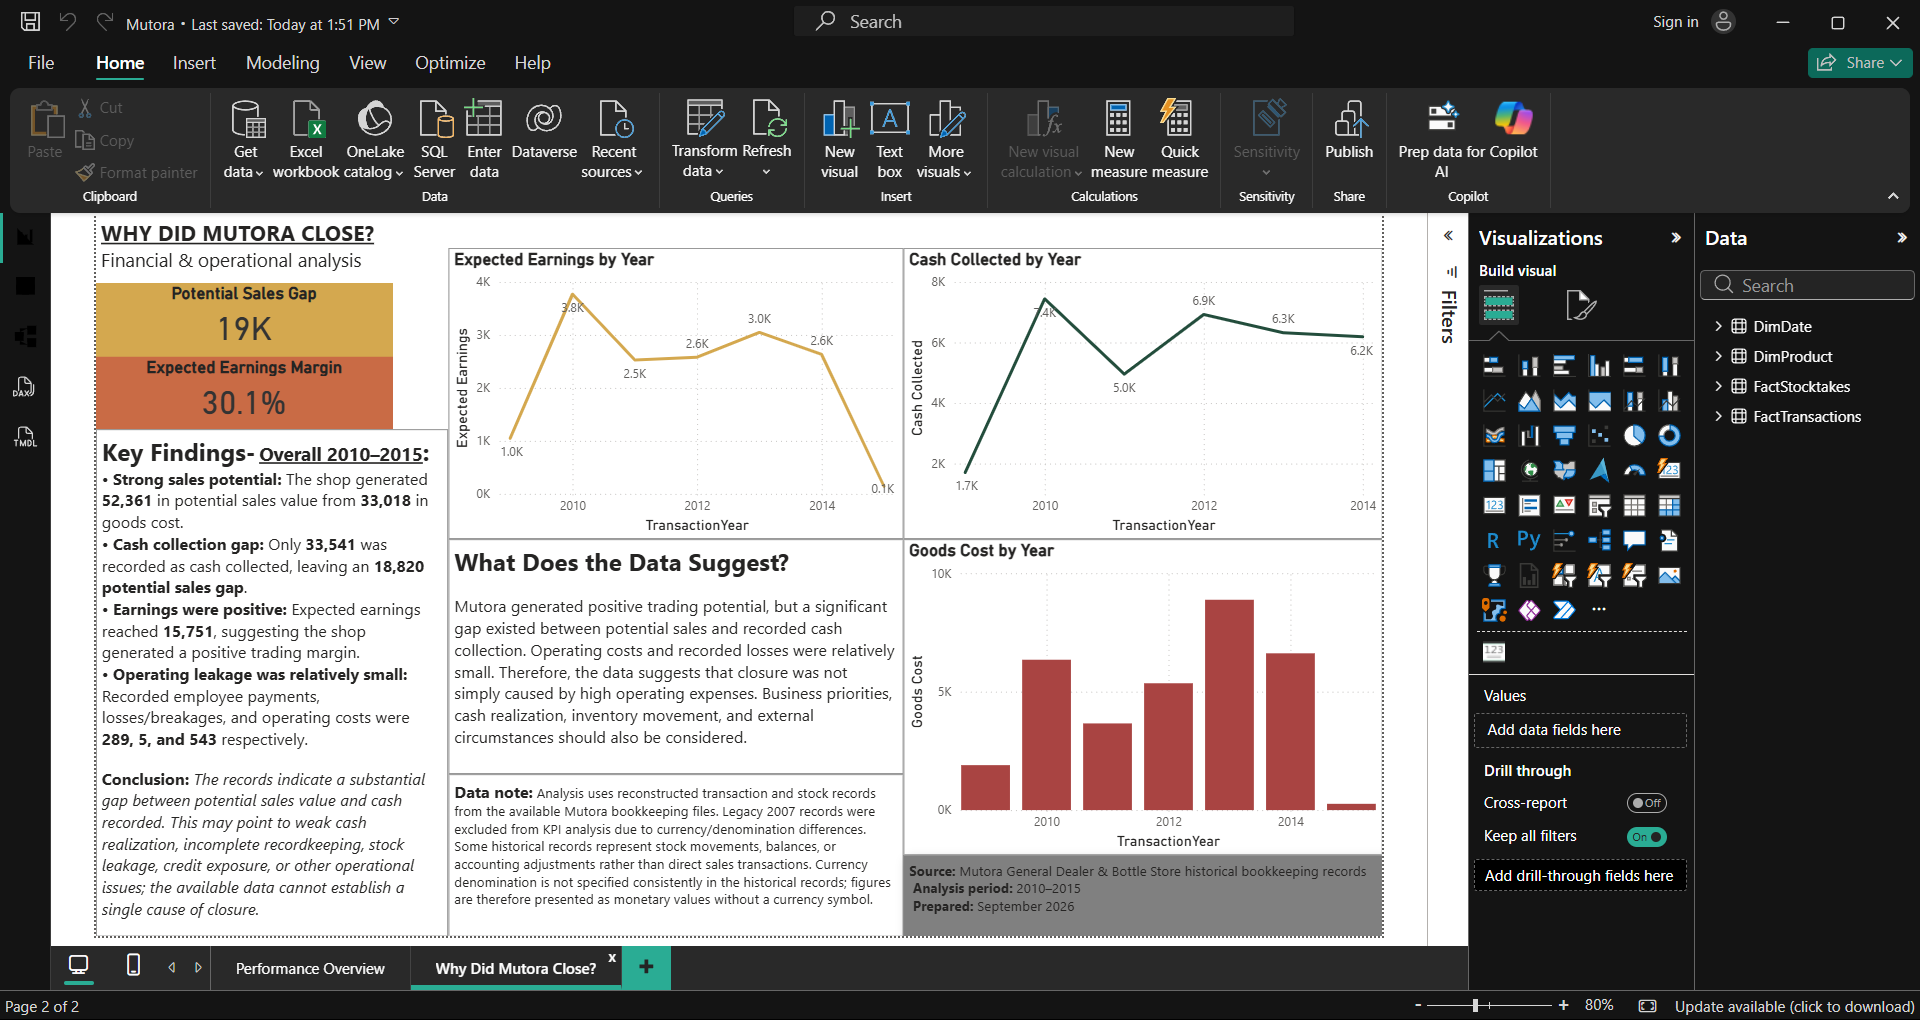

What the dashboard file says about the page in this screenshot:
{"tool":"powerbi","page":{"name":"Why Did Mutora Close?","canvas":[1280,720],"ordinal":1},"visuals":[{"type":"textbox","box":[0,0,294.8,69.7],"z":0},{"type":"advanceCardE03760C5AB684758B56AA29F9E6C257B","title":"Potential Sales Gap","fields":{"mainMeasure":["FactTransactions.Sales Gap"]},"box":[0,69.7,294.8,73.4],"z":1000},{"type":"advanceCardE03760C5AB684758B56AA29F9E6C257B","title":"Expected Earnings Margin","fields":{"mainMeasure":["FactTransactions.Expected Earnings Rate"]},"box":[0,143.1,294.8,72.1],"z":2000},{"type":"lineChart","title":"Expected Earnings by Year","fields":{"Category":["FactTransactions.TransactionYear"],"Y":["FactTransactions.Expected Earnings"]},"box":[350.8,34.8,452.8,289.8],"z":3000},{"type":"clusteredColumnChart","title":"Goods Cost by Year","fields":{"Category":["FactTransactions.TransactionYear"],"Y":["FactTransactions.Goods Cost"]},"box":[803.6,324.7,476.4,314.7],"z":4000},{"type":"lineChart","title":"Cash Collected by Year","fields":{"Category":["FactTransactions.TransactionYear"],"Y":["FactTransactions.Cash Collected"]},"box":[803.6,34.8,476.4,289.8],"z":5000},{"type":"textbox","box":[0,215.2,350.8,505],"z":6000},{"type":"textbox","box":[350.8,324.7,452.8,233.9],"z":7000},{"type":"textbox","box":[350.8,558.5,452.8,161.7],"z":7001},{"type":"textbox","box":[803.6,639.4,476.4,80.9],"z":7002}]}

Visuals, with their boxes on the page's 1280x720 design canvas (x1, y1, x2, y2). These are canvas units, not pixel positions in the 1920x1020 screenshot, which may show the page scaled, cropped or inside an application window:
textbox: select_region(0, 0, 295, 70)
"Potential Sales Gap" advanceCardE03760C5AB684758B56AA29F9E6C257B: select_region(0, 70, 295, 143)
"Expected Earnings Margin" advanceCardE03760C5AB684758B56AA29F9E6C257B: select_region(0, 143, 295, 215)
"Expected Earnings by Year" lineChart: select_region(351, 35, 804, 325)
"Goods Cost by Year" clusteredColumnChart: select_region(804, 325, 1280, 639)
"Cash Collected by Year" lineChart: select_region(804, 35, 1280, 325)
textbox: select_region(0, 215, 351, 720)
textbox: select_region(351, 325, 804, 559)
textbox: select_region(351, 558, 804, 720)
textbox: select_region(804, 639, 1280, 720)
